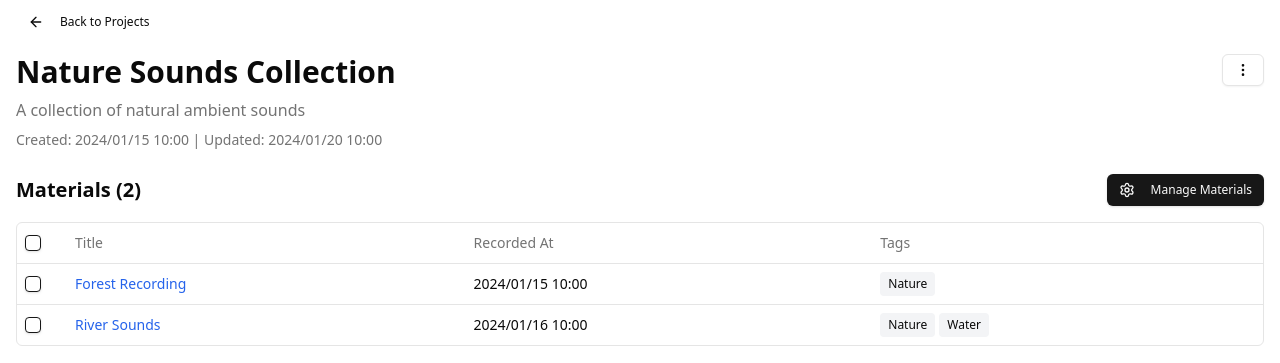
Test: ProjectDetailPage - Comprehensive Tests › Material Selection and Removal › should deselect all materials when unchecking select all
Expected: the link "Forest Recording" is shown, left=75, top=274, right=186, bottom=292
// Check all
Click the checkbox next to "Title": (33, 243) left=25, top=235, right=41, bottom=251
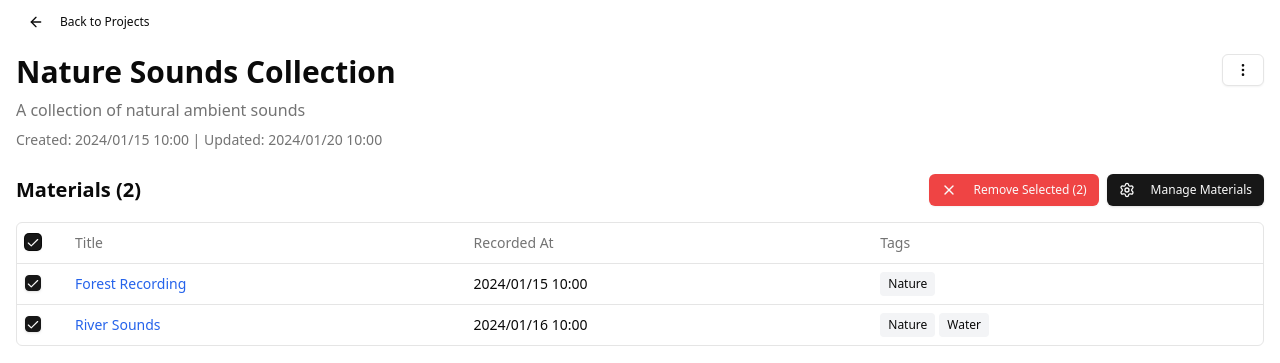
Result: the button "Remove Selected (2)" is shown at left=930, top=174, right=1099, bottom=206
// Uncheck all
Click the checkbox next to "Title": (33, 242) left=25, top=234, right=41, bottom=250
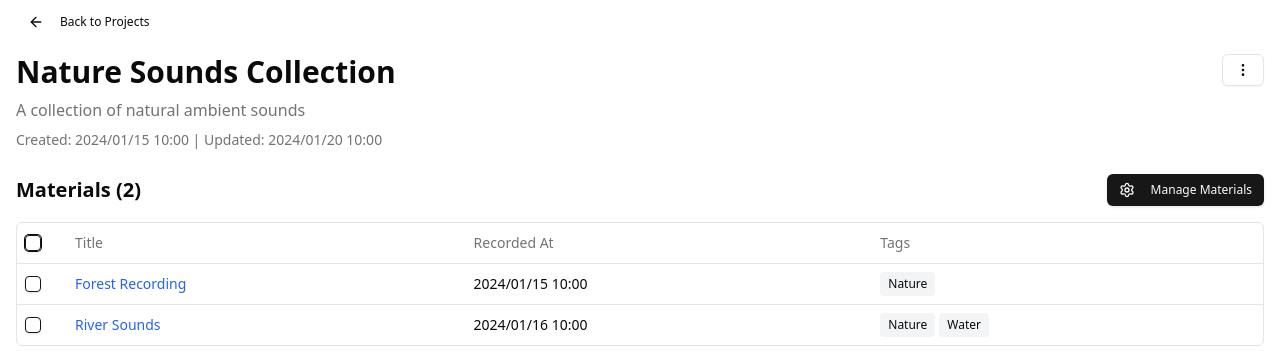
Result: the button "Remove Selected" is gone
